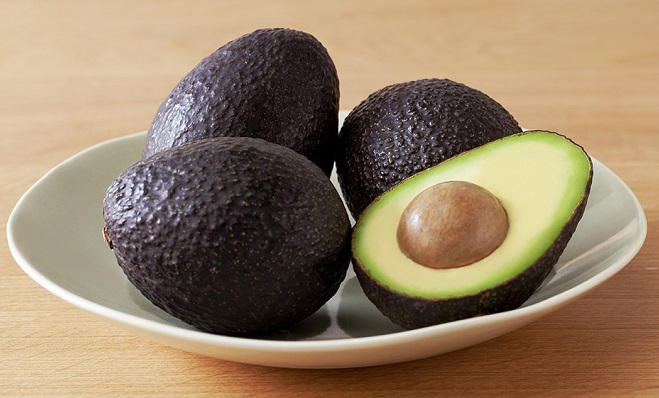fit_avocado: (87, 135, 357, 332), (94, 16, 361, 192)
